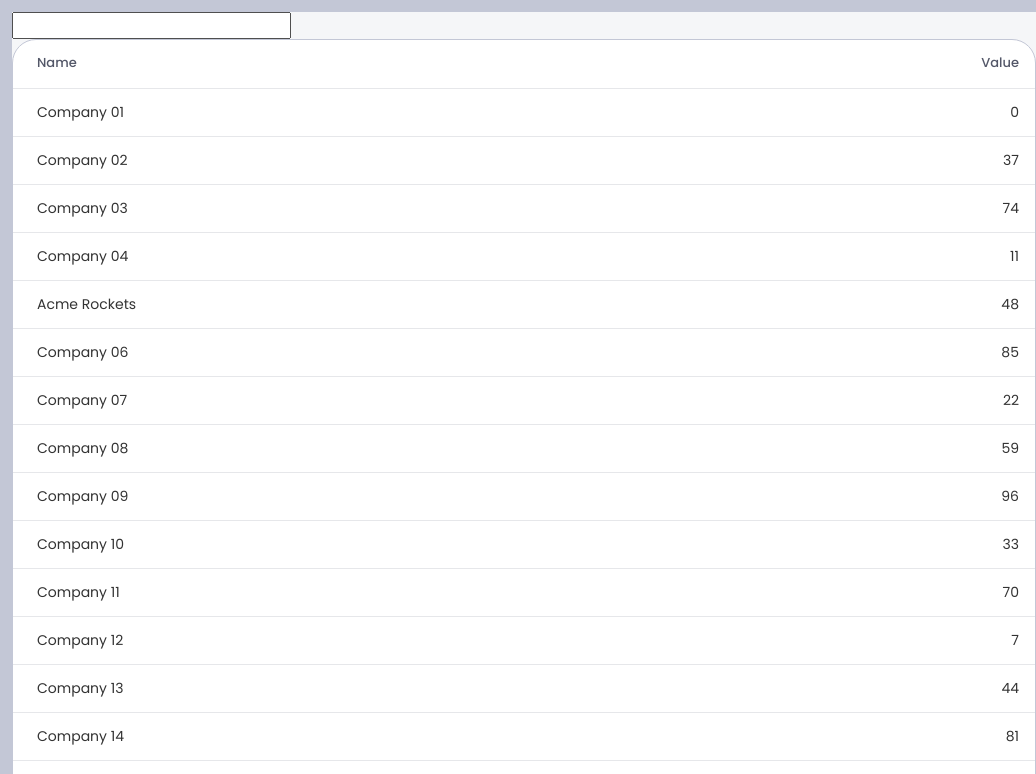
DataTable (T1–T3, T6) › sorts up, then down, then back to the default order
The width and height of the screenshot is (1036, 774).
Click the button "Value" at [1000, 64], box [981,55,1019,72]
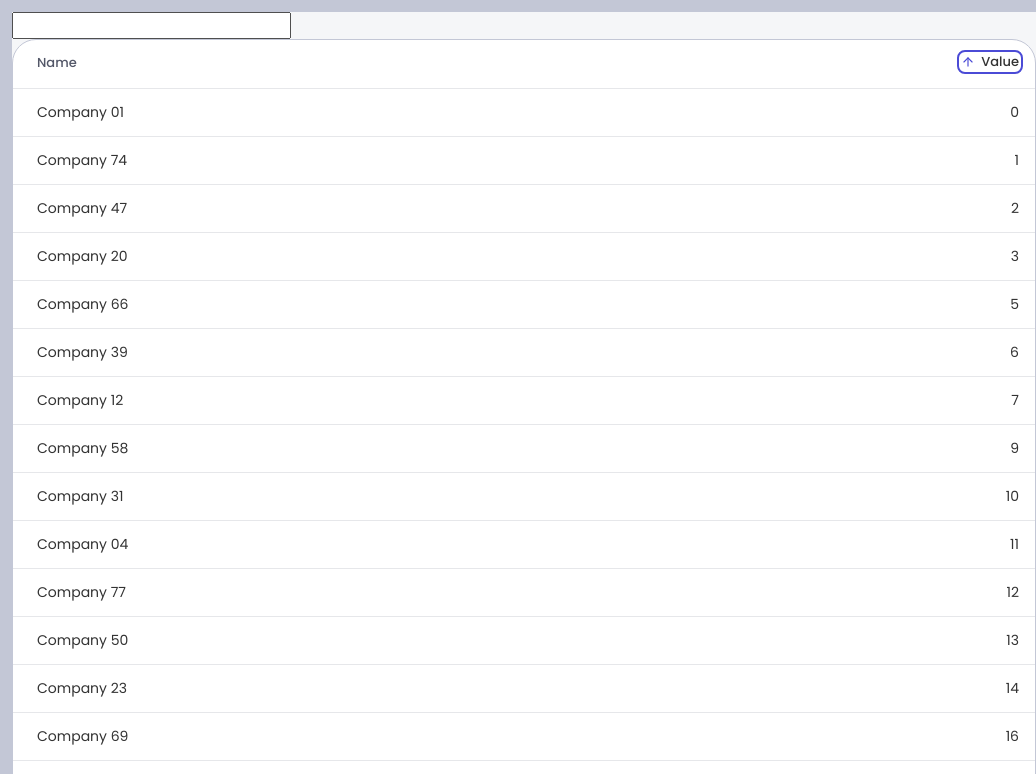
Now the column heading "Value" has attribute aria-sort="ascending", box [524,40,1035,88]
Click the button "Value" at [990, 62], box [961,54,1019,70]
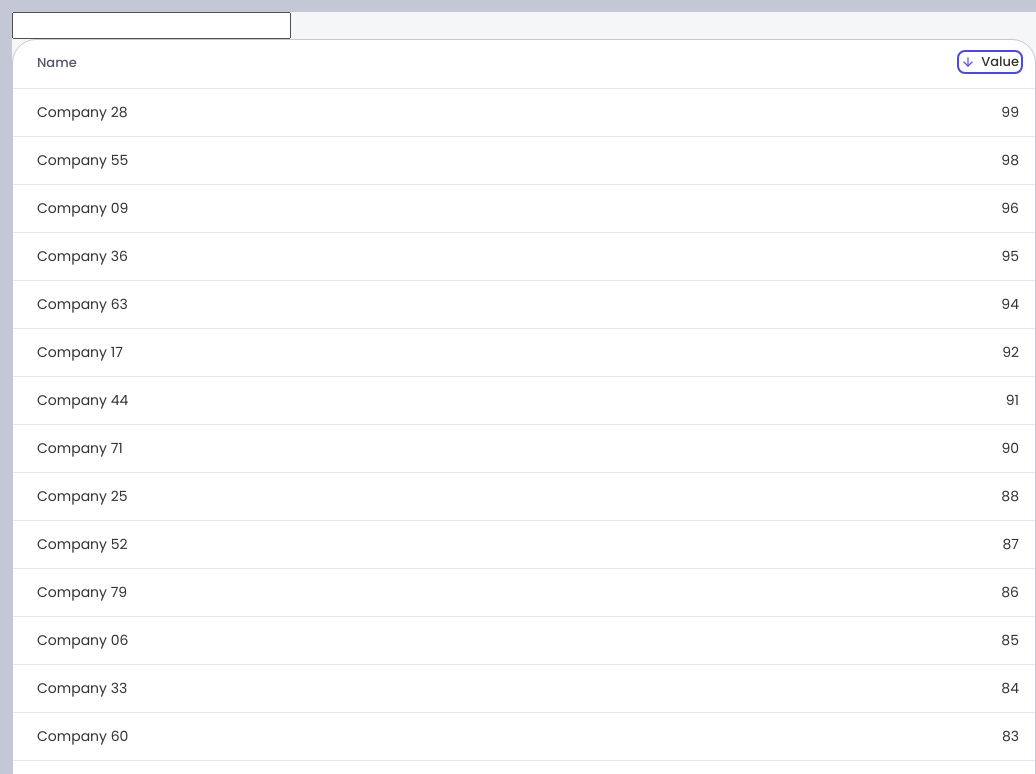
Now the column heading "Value" has attribute aria-sort="descending", box [524,40,1035,88]
Click the button "Value" at [990, 62], box [961,54,1019,70]
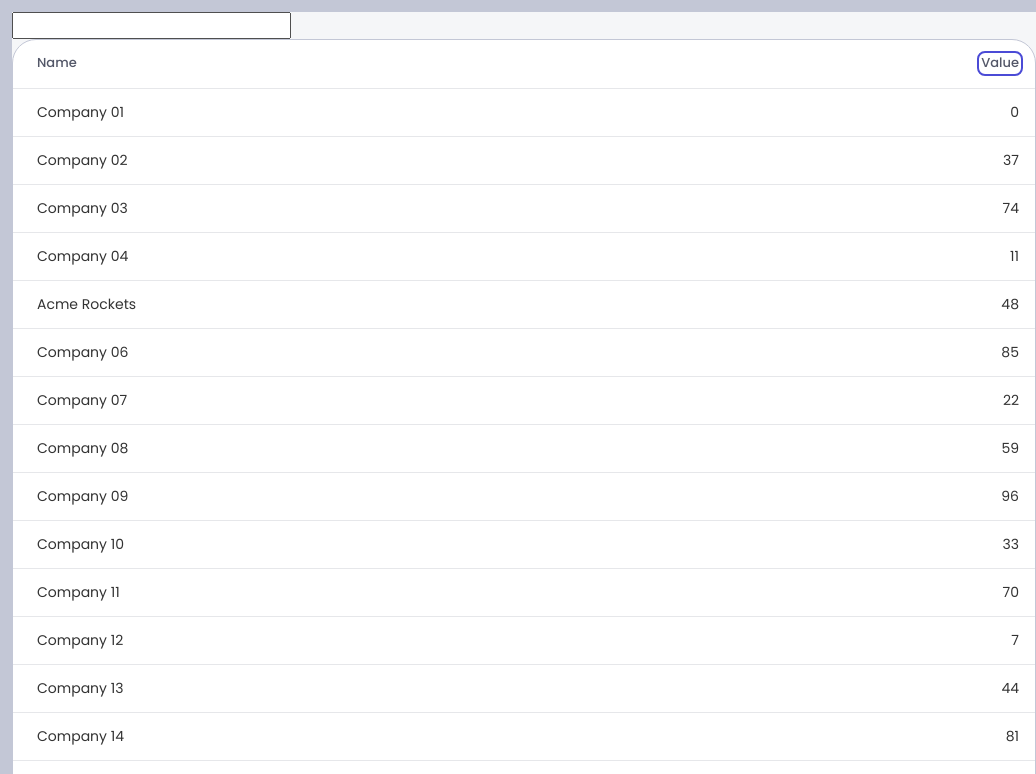
Now the cell "Company 01" is shown, box [13,88,524,136]
